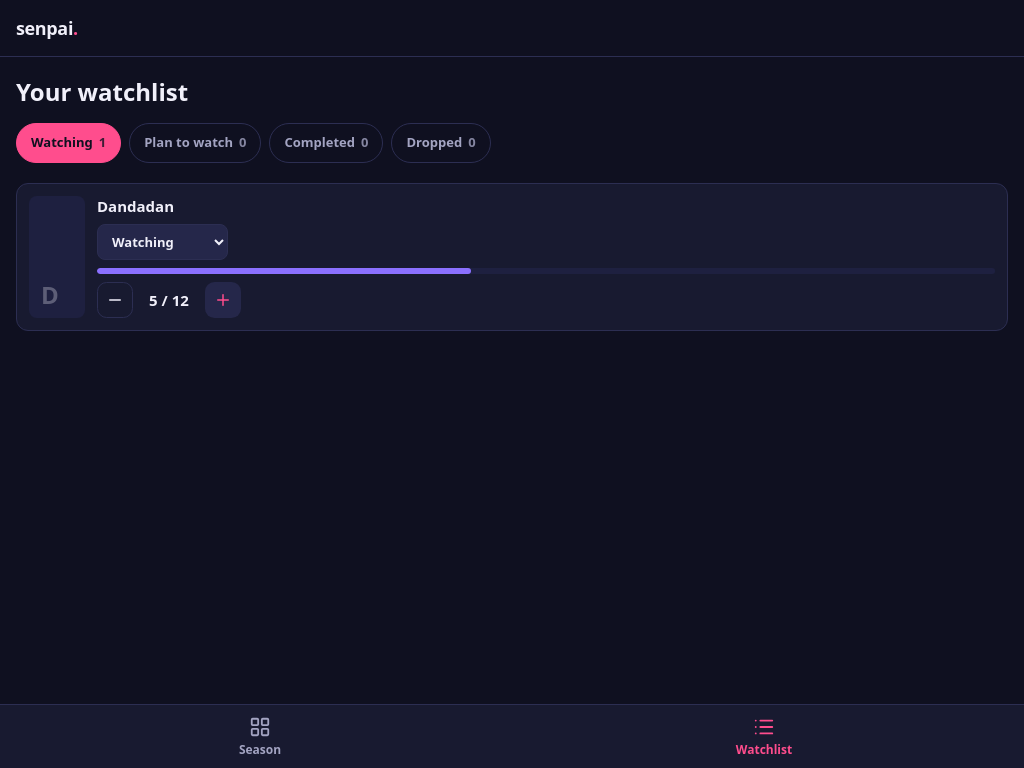
WatchlistPage › moves a completed show to the Completed tab with every episode watched
Select "Completed" in the dropdown named "Status: Dandadan" at coordinates (162, 242), box [97,224,228,260]
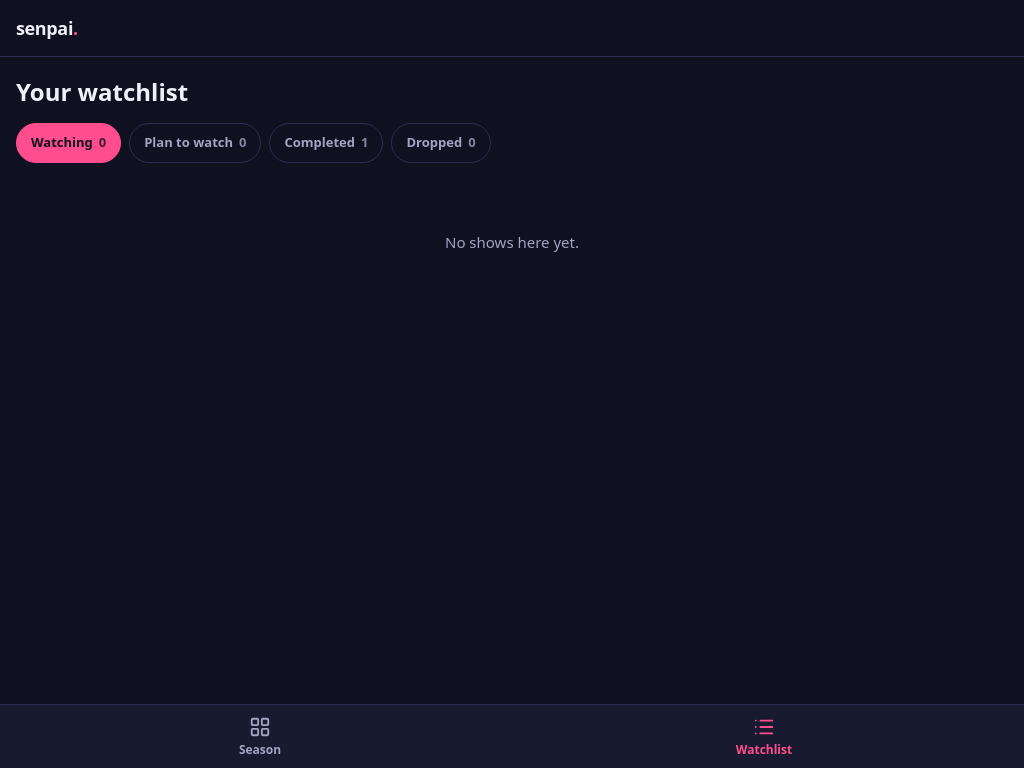
Click the tab "Completed 1" at coordinates (326, 143), box [270,123,384,163]
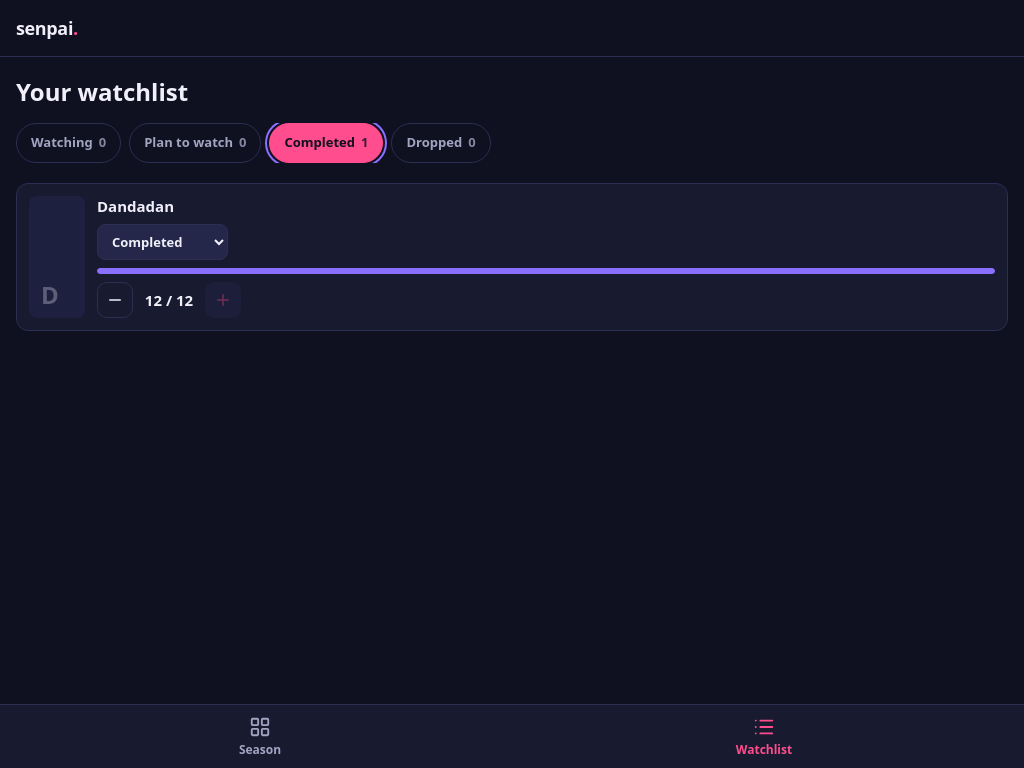
Expected: the text "12 / 12" is shown, [141,289,197,311]
